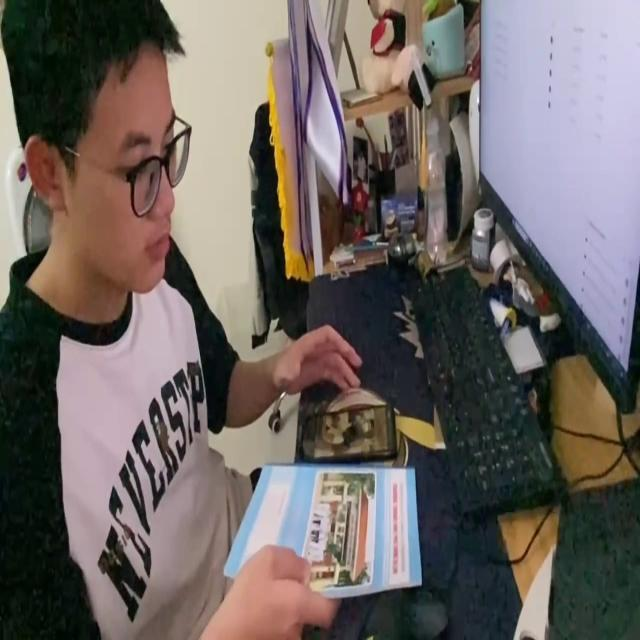book: (221, 460, 424, 606)
laptop: (477, 0, 640, 418)
phone: (294, 403, 398, 463)
student: (1, 0, 363, 640)
